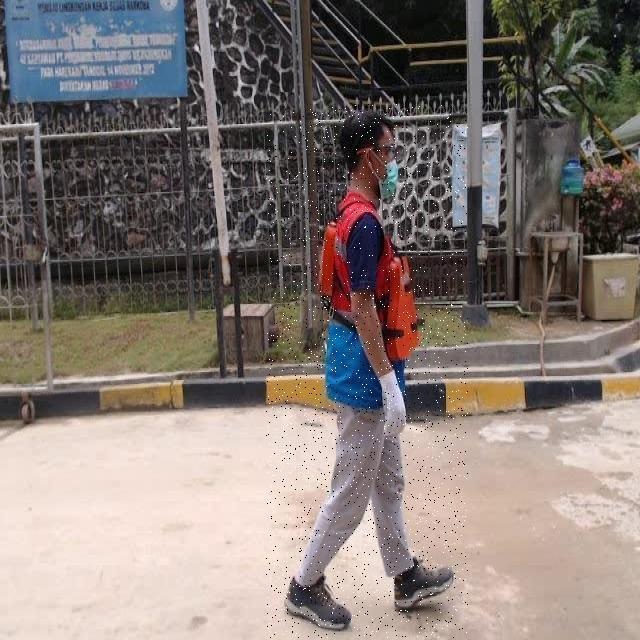boots: (283, 570, 355, 637), (392, 554, 458, 614)
vest: (319, 190, 424, 410)
